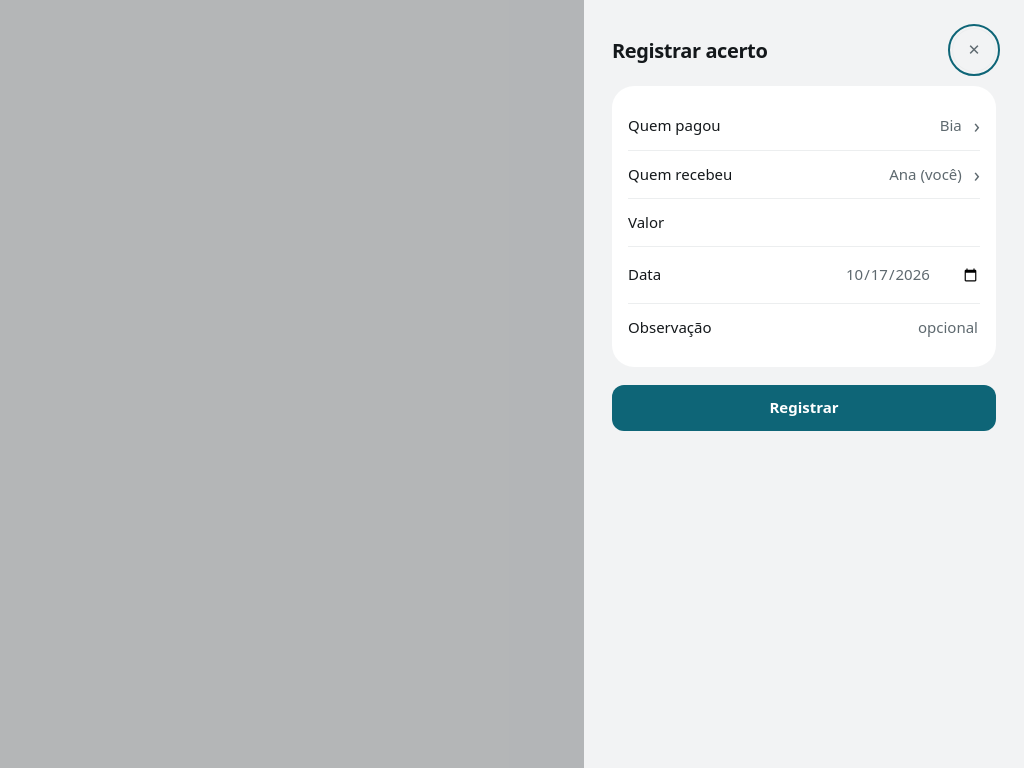
Test: SettlementSheet: new › the amount  is refused before anything is sent
The width and height of the screenshot is (1024, 768).
Click the button "Registrar". click: (804, 408)
box: top-left (612, 385), bottom-right (996, 431)
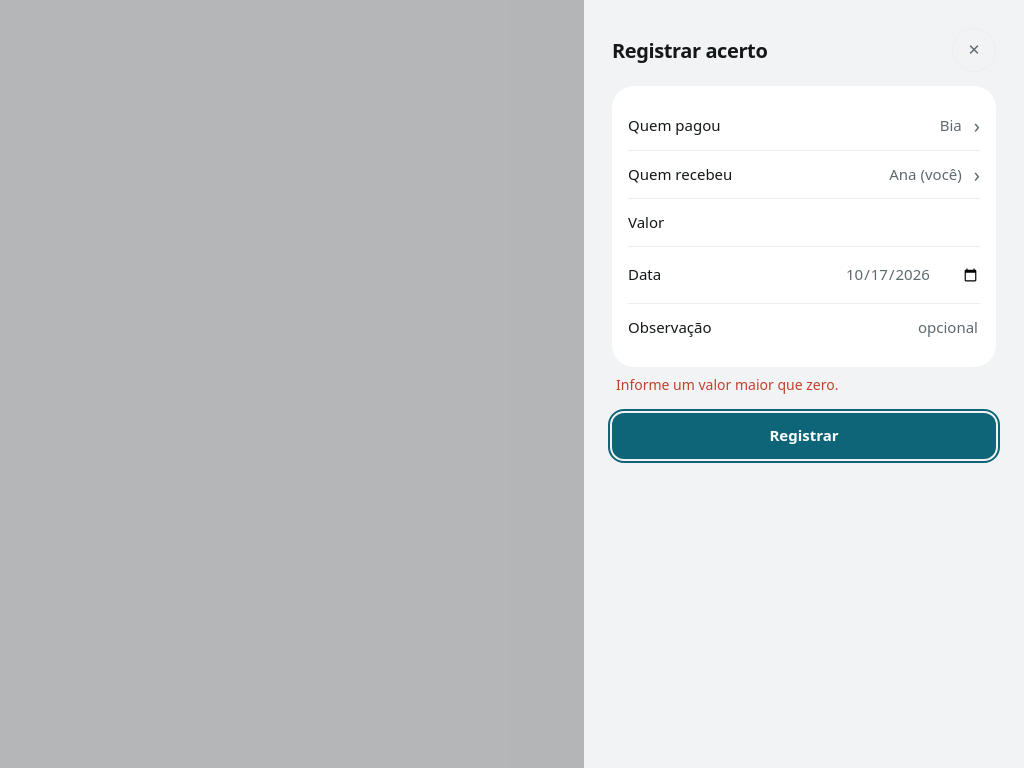
Check: the text "Informe um valor maior que zero." is shown, box top-left (616, 375), bottom-right (838, 394)
